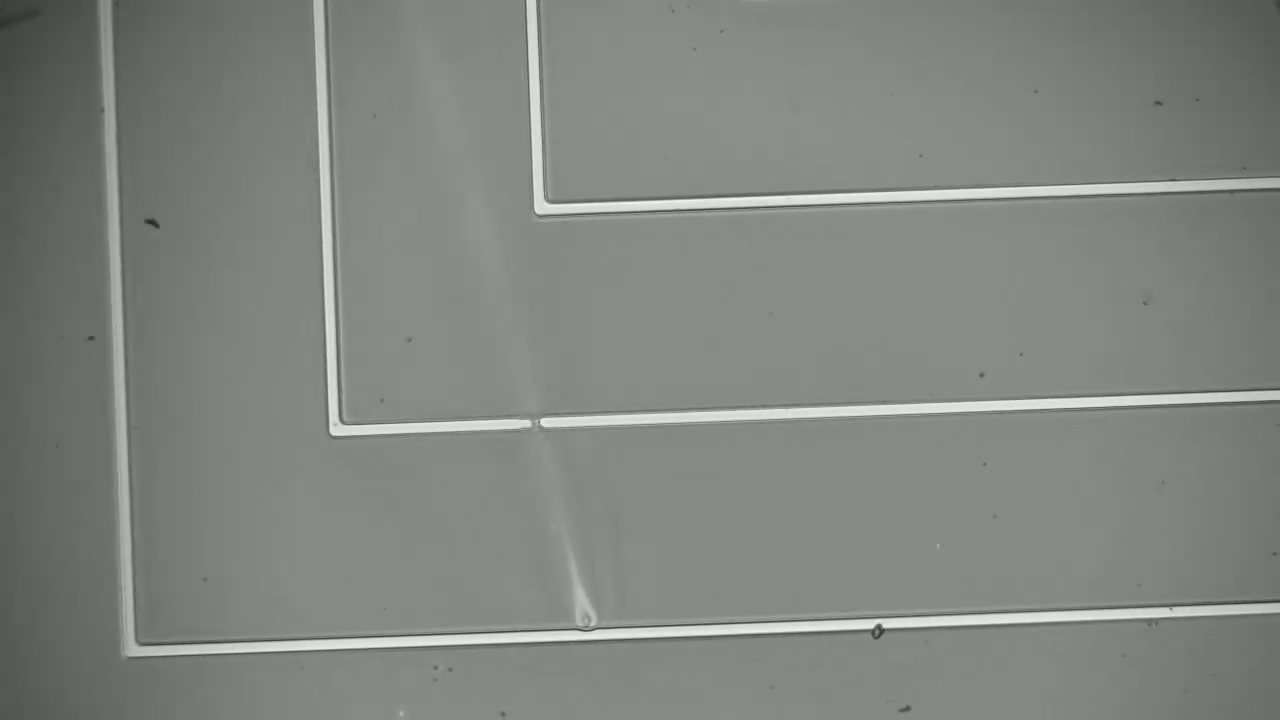open: (514, 399, 562, 440)
stains_enbedded: (858, 604, 895, 648)
